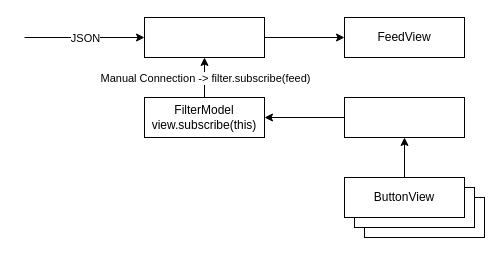
Some shapes in this 502 by 255 pixel diagram are drawn without their labels. The centre of each missing label's shape, as x and y in pixels:
FeedModel this.subscribe(view): point 204,37
FilterView button.subscribe(this): point 404,117
